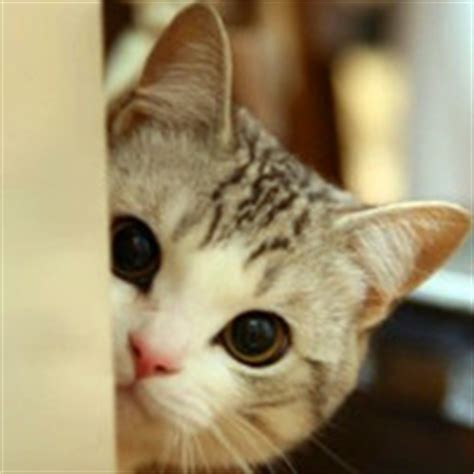cat: (103, 7, 472, 434)
